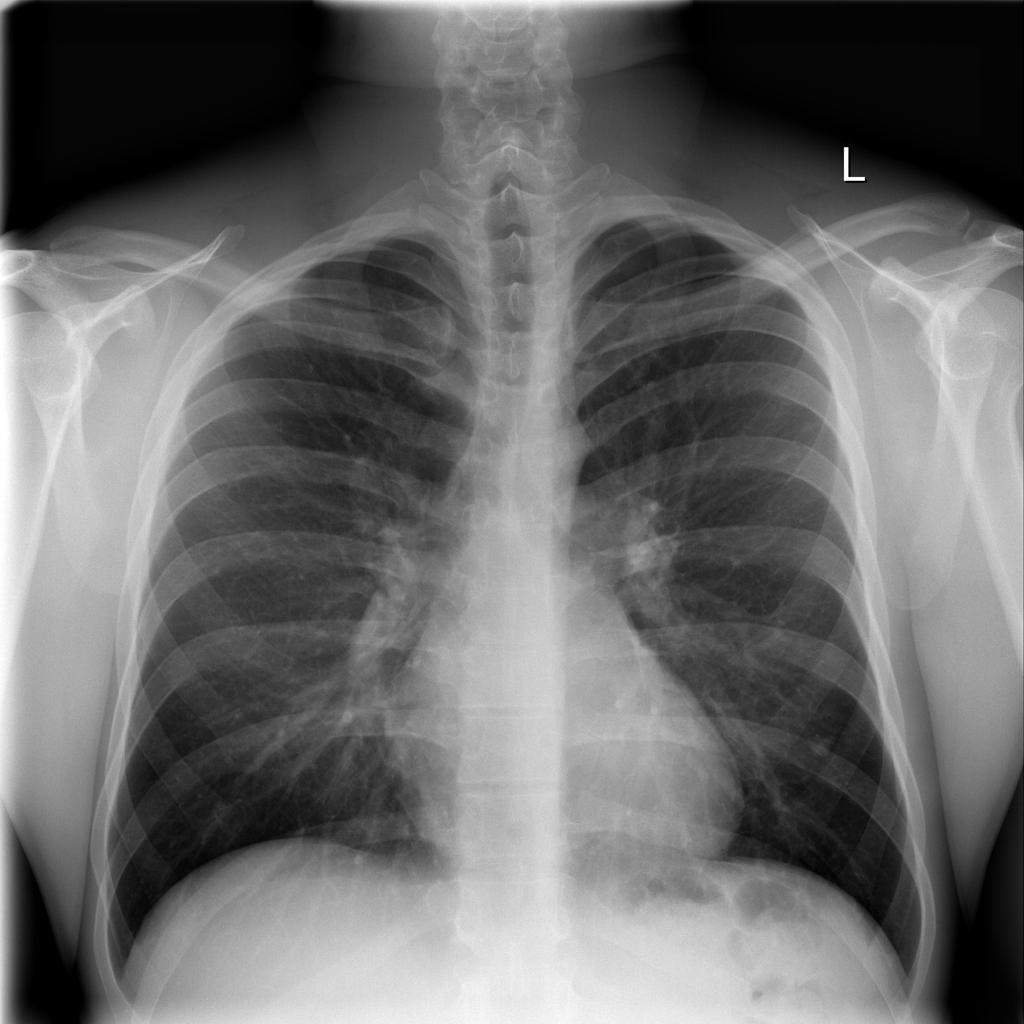nodule: (798, 720, 847, 773)
